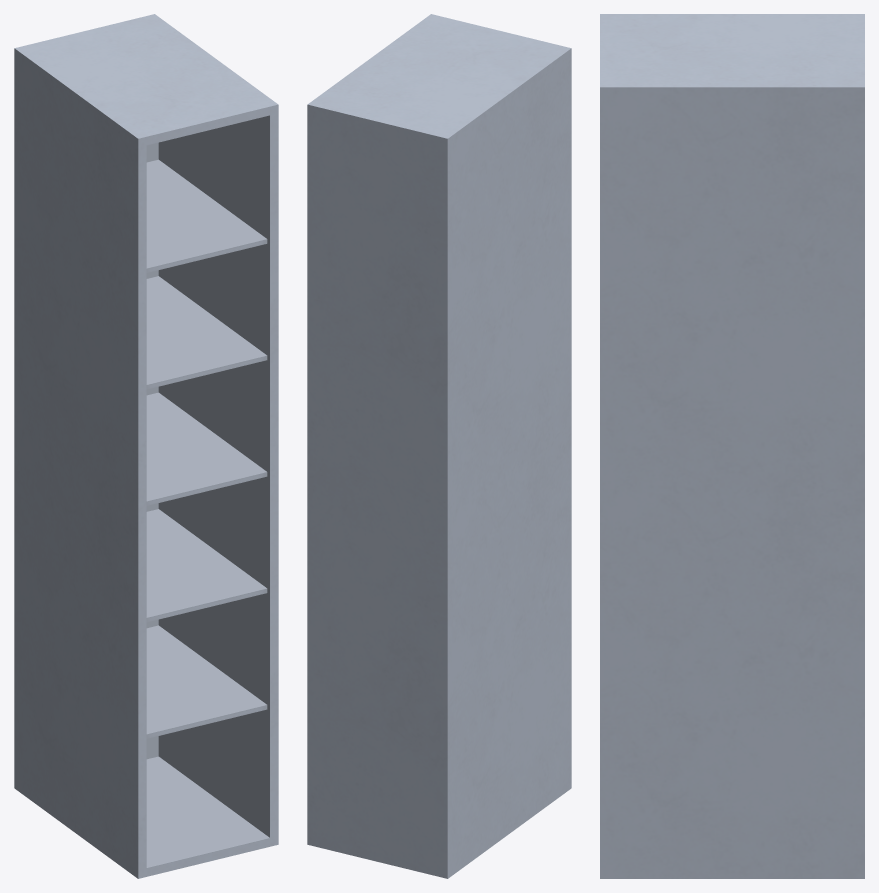
File: bookshelf.1ba00b13.glb
The picture shows the model from 3 angles, left to right: view 1: azimuth 30°, elevation 25°; view 2: azimuth 150°, elevation 25°; view 3: azimuth 270°, elevation 25°; orthographic projection. The views are drawn at different scales.
Parts seen in each view (by area): view 1: Cube.021; view 2: Cube.021; view 3: Cube.021.
Boxes of the visible parts, <box> form: Cube.021: <box>14,14,278,878</box>; Cube.021: <box>307,14,571,878</box>; Cube.021: <box>600,14,864,878</box>.
Bounding box in the file's own units: 0.4643 × 2.34 × 0.7088.
Materials: 1 (1 with a texture image).
